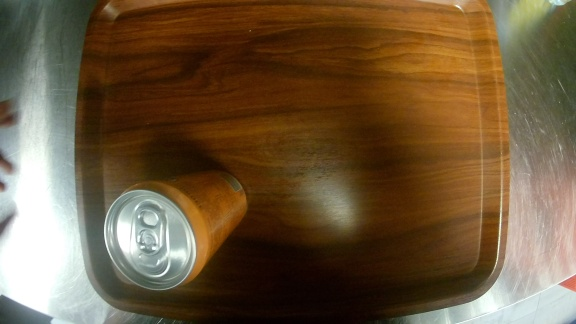kutufanta: (99, 166, 258, 297)
